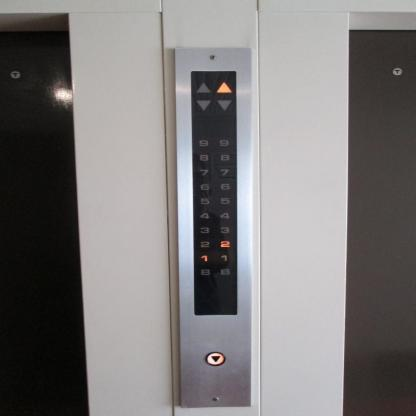down: (204, 349, 226, 367)
led: (188, 67, 240, 318)
